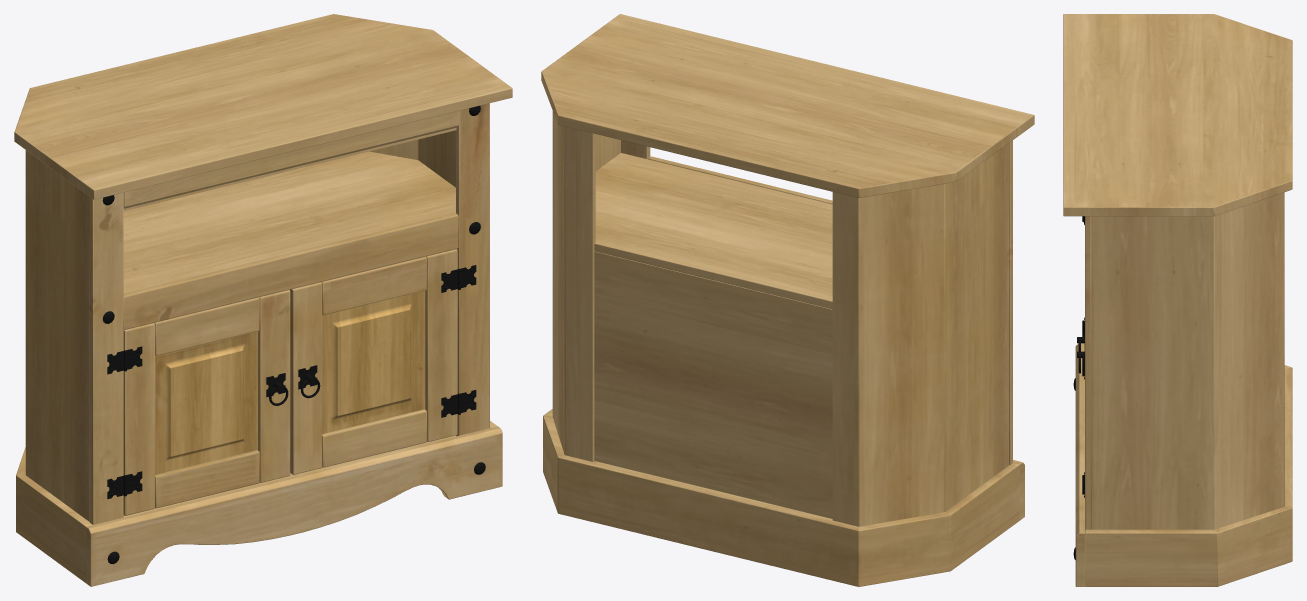
3 views of the same model, side by side, from view 1: azimuth 30°, elevation 25°; view 2: azimuth 150°, elevation 25°; view 3: azimuth 270°, elevation 25° (orthographic). The views are drawn at different scales.
Parts seen in each view (by area): view 1: B005G2WO38; view 2: B005G2WO38; view 3: B005G2WO38.
Boxes of the visible parts, bbox=[...] form: B005G2WO38: bbox=[14, 14, 512, 586]; B005G2WO38: bbox=[541, 14, 1034, 586]; B005G2WO38: bbox=[1063, 14, 1292, 586].
Size of the model in its own units: 0.8509 by 0.781 by 0.4255.
Materials: 1 (1 with a texture image).
